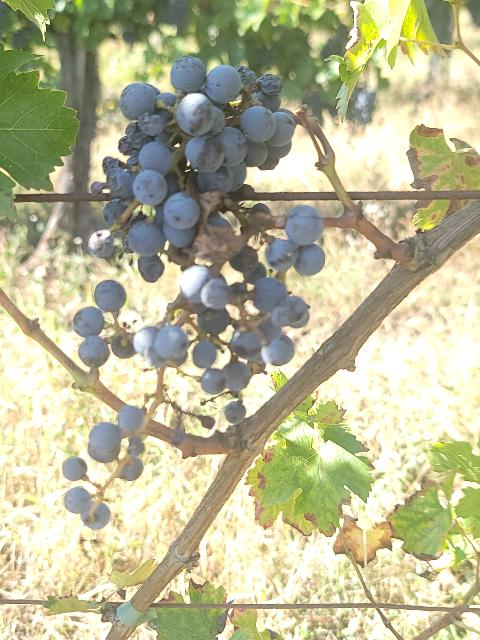grapes: (89, 56, 296, 281), (142, 246, 310, 424), (75, 308, 190, 369), (89, 405, 150, 480), (265, 206, 325, 274), (65, 488, 110, 530)
